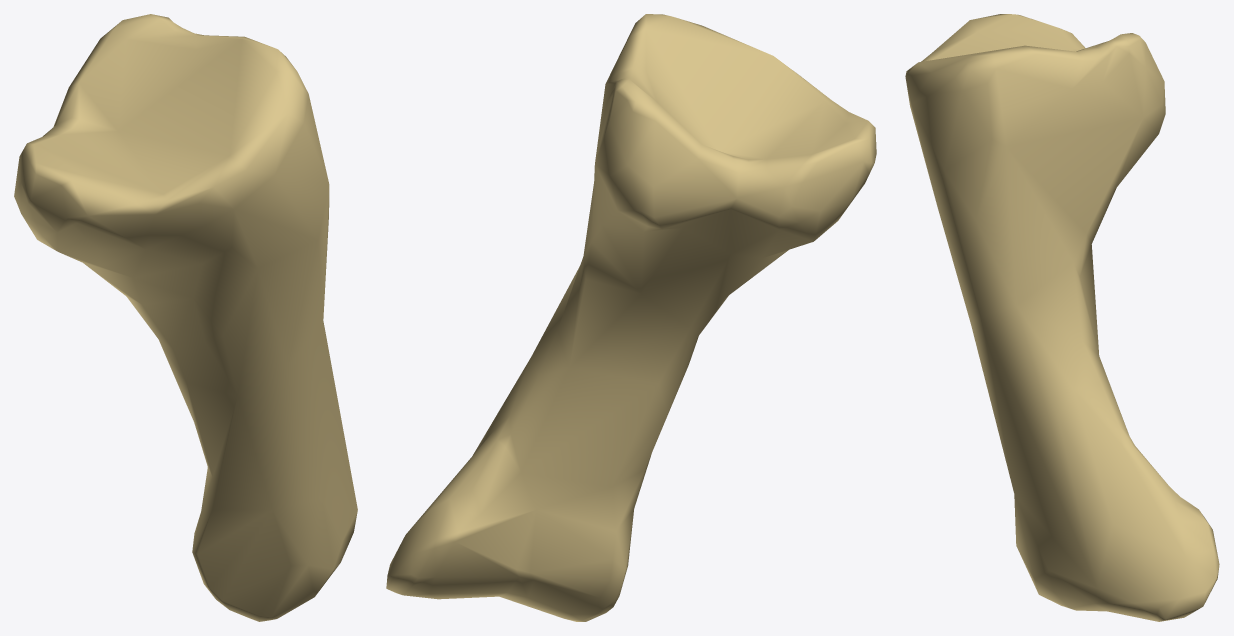
3 views of the same model, side by side, from view 1: azimuth 30°, elevation 25°; view 2: azimuth 150°, elevation 25°; view 3: azimuth 270°, elevation 25° (orthographic). The views are drawn at different scales.
Parts seen in each view (by area): view 1: 左侧第四趾近节趾骨; view 2: 左侧第四趾近节趾骨; view 3: 左侧第四趾近节趾骨.
Boxes of the visible parts, x1,y1,x2,y2 form: 左侧第四趾近节趾骨: (14,14,357,621); 左侧第四趾近节趾骨: (386,14,876,621); 左侧第四趾近节趾骨: (905,14,1219,621).
Bounding box in the file's own units: 0.0267 × 0.0383 × 0.0203.
